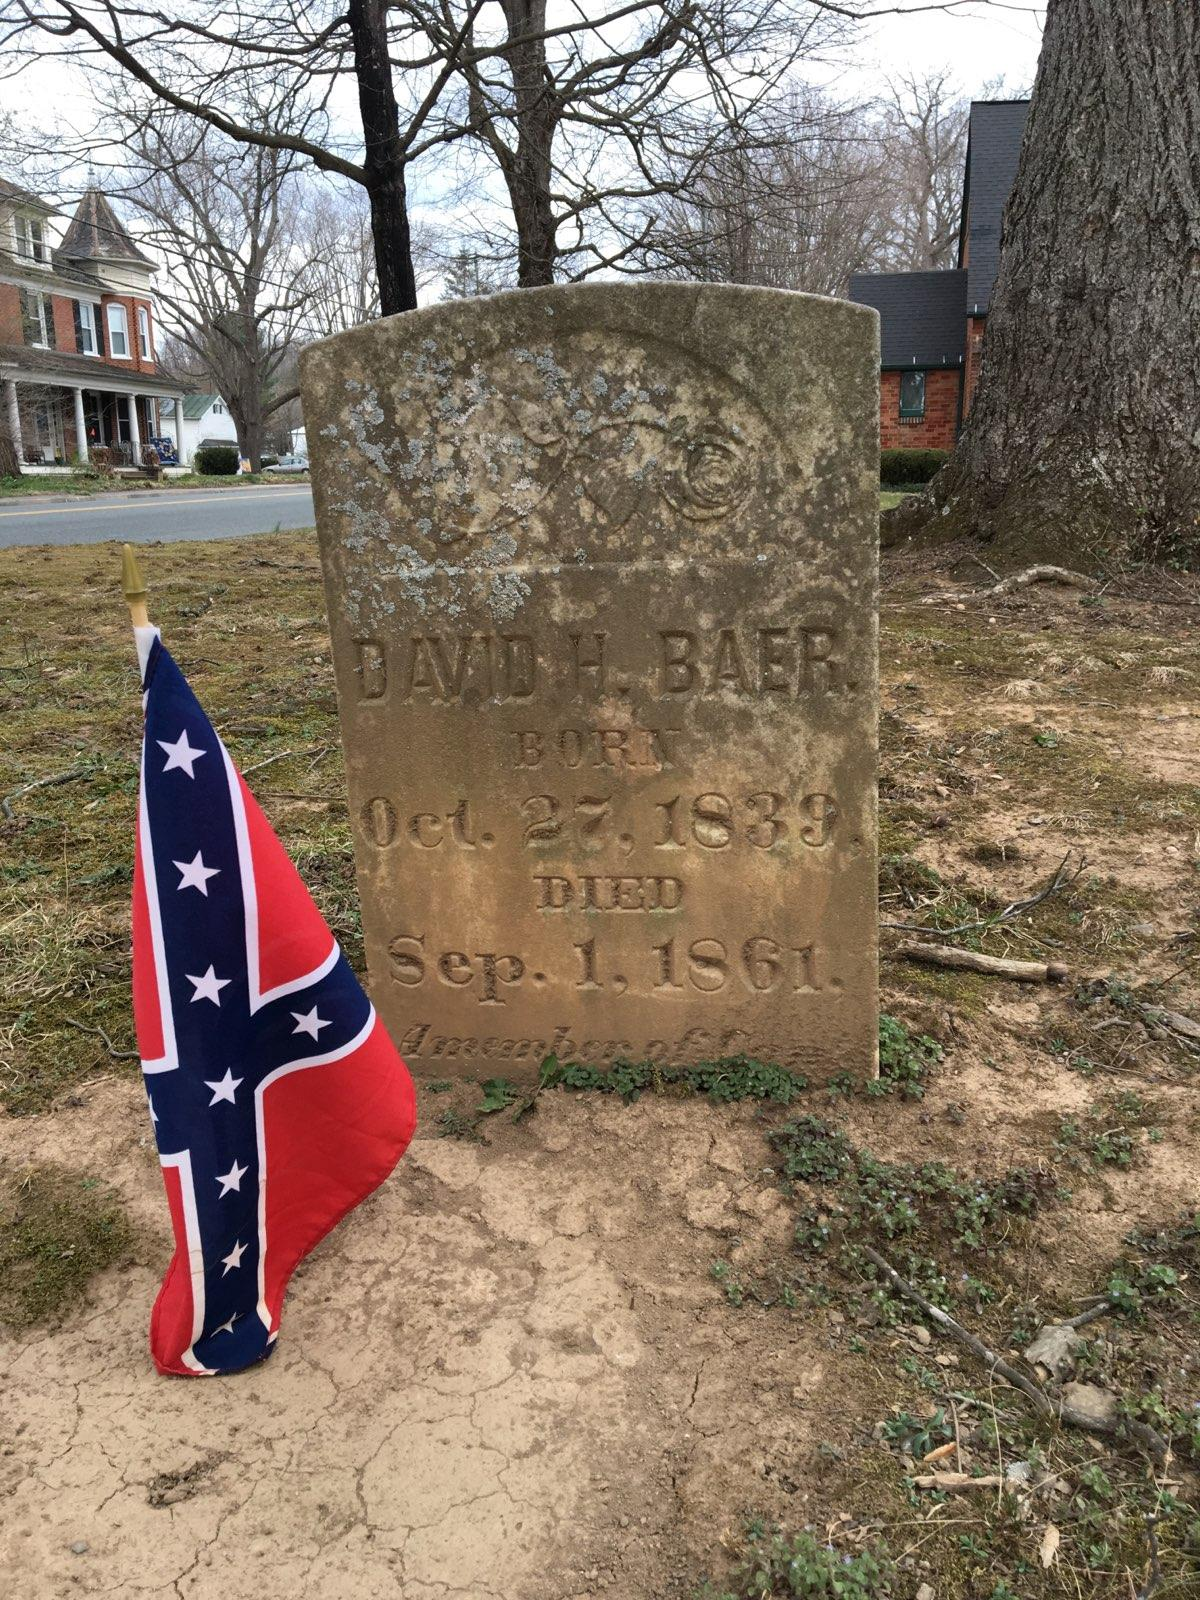upright: (261, 249, 919, 1151)
